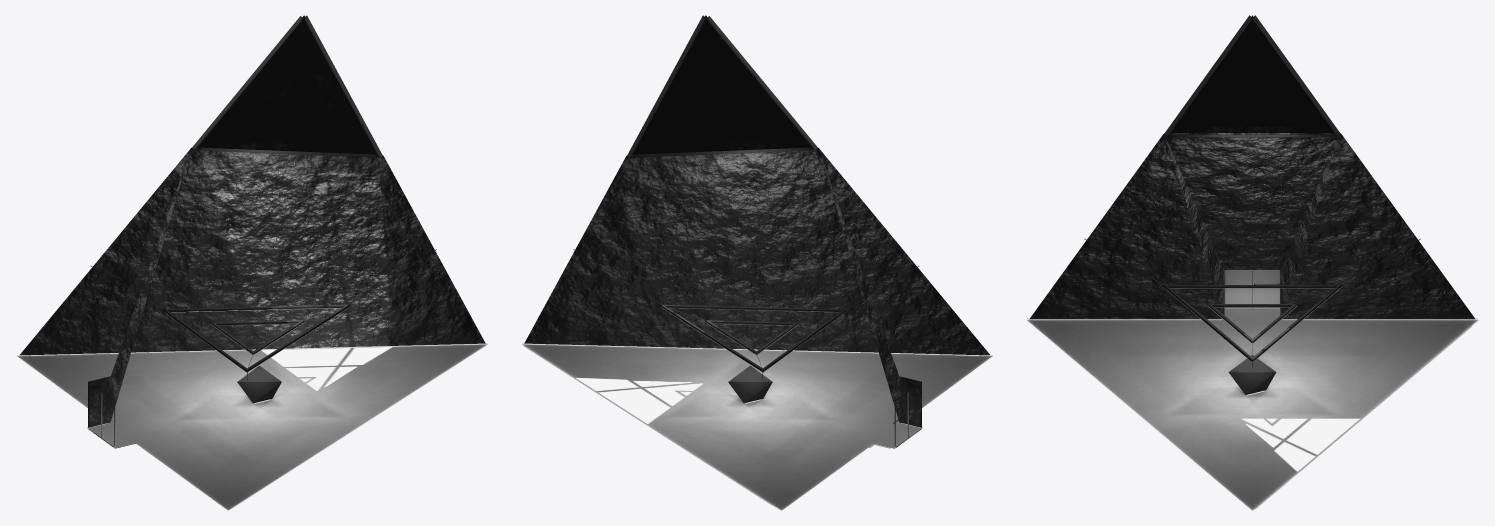
Rendered from modern-vr-art-gallery-pyramid-optimized.glb.
3 renders of one model, left to right at view 1: azimuth 30°, elevation 25°; view 2: azimuth 150°, elevation 25°; view 3: azimuth 270°, elevation 25°, orthographic. The views are drawn at different scales.
Visible parts, largest first — view 1: Baked; view 2: Baked; view 3: Baked.
Part boxes in pixels (box(x1,y1,x2,y2)): Baked: box(15, 15, 489, 511); Baked: box(520, 15, 994, 511); Baked: box(1024, 15, 1480, 511).
Bounding box in the file's own units: 17.36 × 15.8 × 16.36.
1 material, 1 textured.
